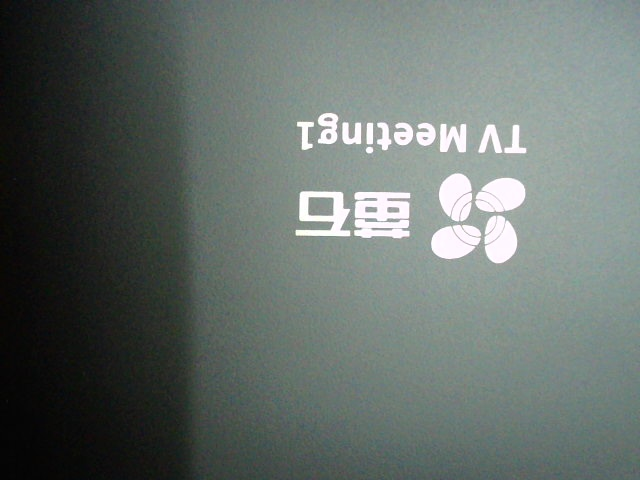BA_Yingshi: (280, 110, 532, 265)
